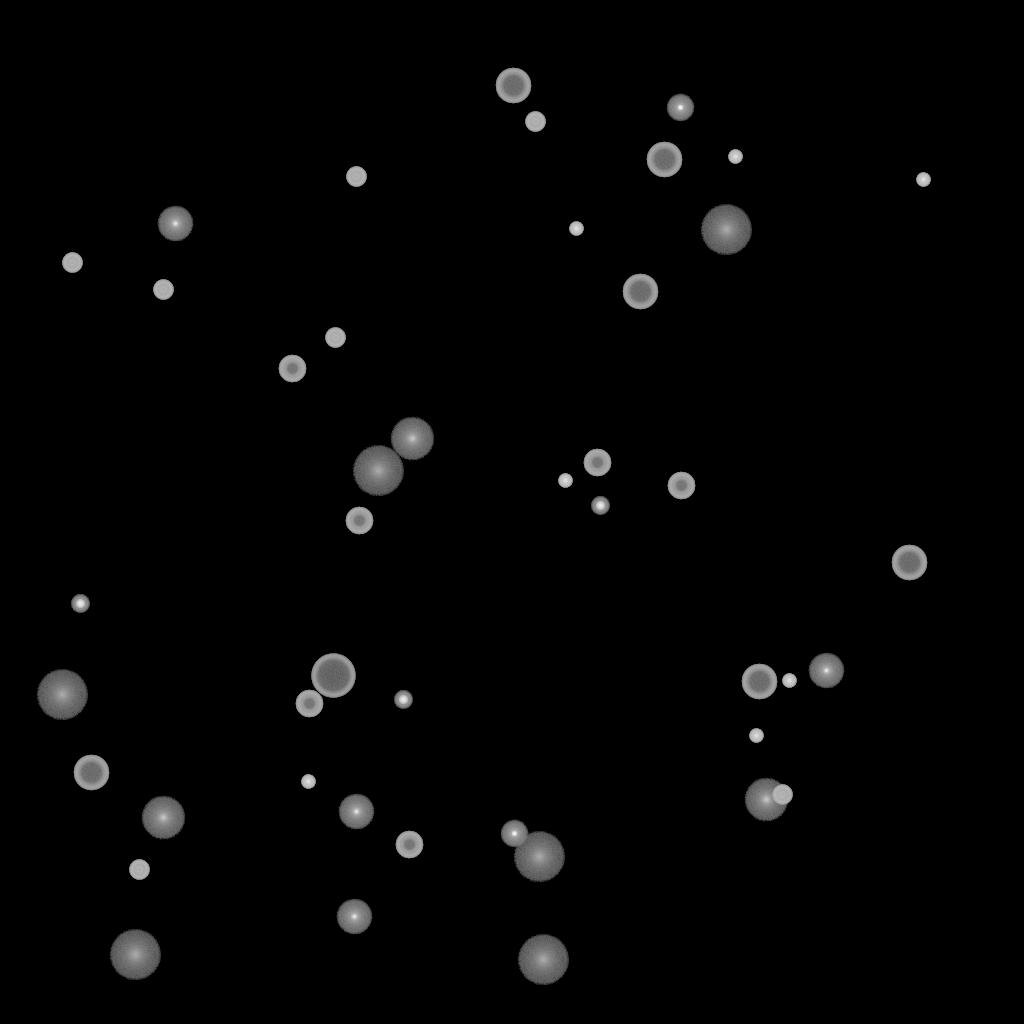depth:-10: (500, 820, 528, 848), (666, 94, 694, 122)
depth:-20: (591, 497, 609, 515), (394, 691, 412, 709), (71, 595, 89, 613)
depth:-30: (749, 729, 763, 743), (916, 173, 930, 187), (301, 775, 315, 789), (782, 674, 796, 688), (728, 150, 742, 164), (569, 222, 583, 236), (558, 474, 572, 488)
depth:-40: (62, 253, 82, 273), (525, 112, 545, 132), (325, 328, 345, 348), (153, 280, 173, 300), (129, 860, 149, 880), (346, 167, 366, 187), (772, 785, 792, 805)
depth:-50: (395, 831, 423, 859), (345, 507, 373, 535), (295, 690, 323, 718), (278, 355, 306, 383), (667, 472, 695, 500), (583, 449, 611, 477)
depth:-60: (495, 68, 531, 104), (741, 664, 777, 700), (891, 545, 927, 581), (622, 274, 658, 310), (646, 142, 682, 178), (73, 755, 109, 791)
depth:-70: (311, 654, 355, 698)
depth:0: (157, 206, 193, 242), (336, 899, 372, 935), (338, 794, 374, 830), (808, 653, 844, 689)
depth:10: (141, 796, 185, 840), (744, 778, 788, 822), (390, 417, 434, 461)
depth:20: (109, 930, 161, 980), (517, 935, 569, 985), (36, 670, 88, 720), (513, 832, 565, 882), (352, 446, 404, 496), (700, 205, 752, 255)
